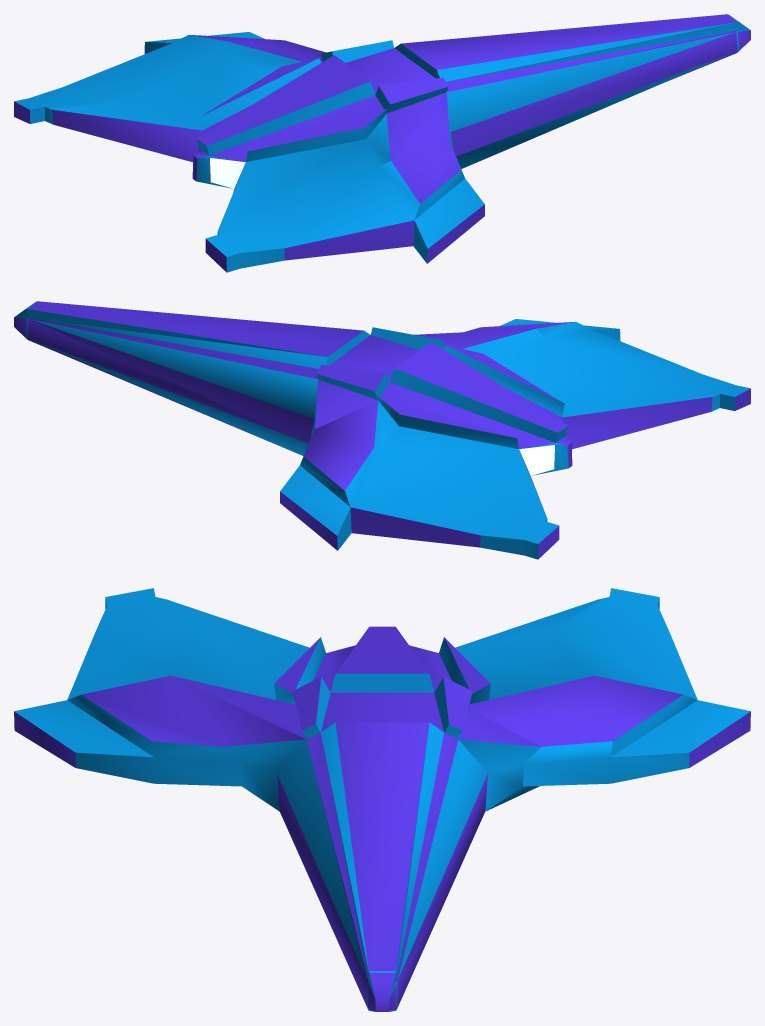
Rendered from Player.glb.
The picture shows the model from 3 angles, top to bottom: view 1: azimuth 30°, elevation 25°; view 2: azimuth 150°, elevation 25°; view 3: azimuth 270°, elevation 25°; orthographic projection. The views are drawn at different scales.
Parts seen in each view (by area): view 1: geo1; view 2: geo1; view 3: geo1.
Boxes of the visible parts, <box> form: geo1: <box>14,14,750,272</box>; geo1: <box>14,301,750,559</box>; geo1: <box>14,588,750,1011</box>.
Bounding box in the file's own units: 4.03 × 0.6744 × 3.13.
